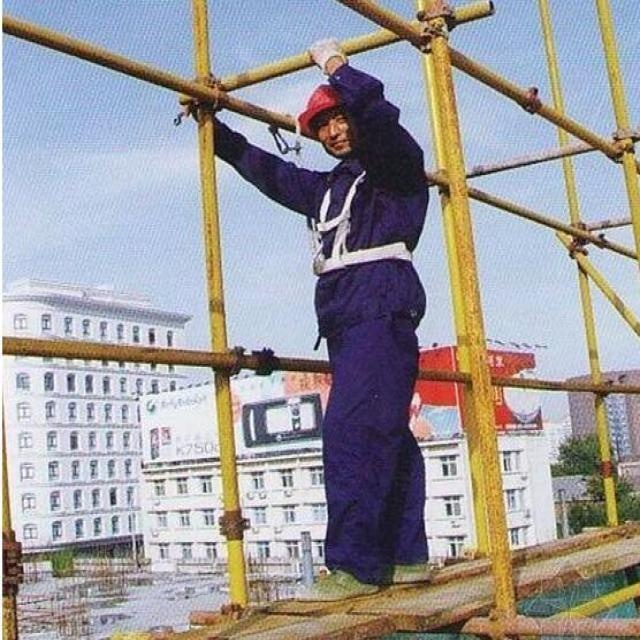Arnes_seguridad: (308, 160, 416, 279)
